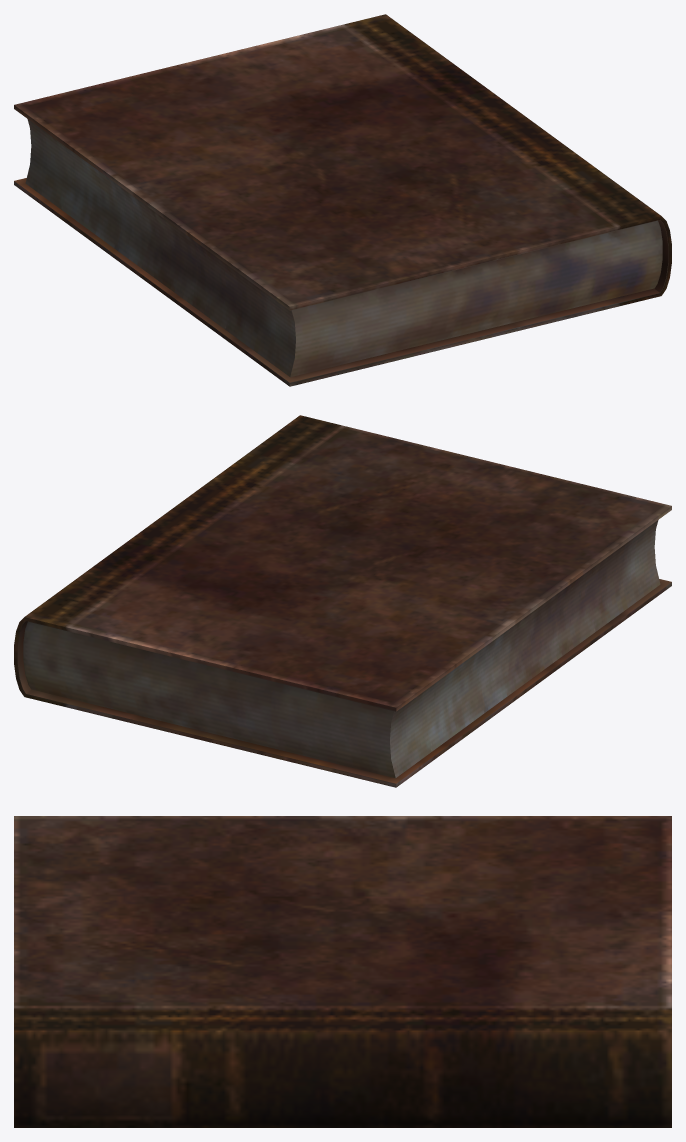
Rendered from book01.dae.
3 renders of one model, top to bottom at view 1: azimuth 30°, elevation 25°; view 2: azimuth 150°, elevation 25°; view 3: azimuth 270°, elevation 25°, orthographic. The views are drawn at different scales.
Parts seen in each view (by area): view 1: Book01_PIVOT; view 2: Book01_PIVOT; view 3: Book01_PIVOT.
Part boxes in pixels (box(x1,y1,x2,y2)): Book01_PIVOT: box(14, 14, 671, 386); Book01_PIVOT: box(14, 415, 671, 787); Book01_PIVOT: box(14, 816, 671, 1127).
Size of the model in its own units: 0.2 by 0.25 by 0.04.
Materials: 1 (1 with a texture image).
